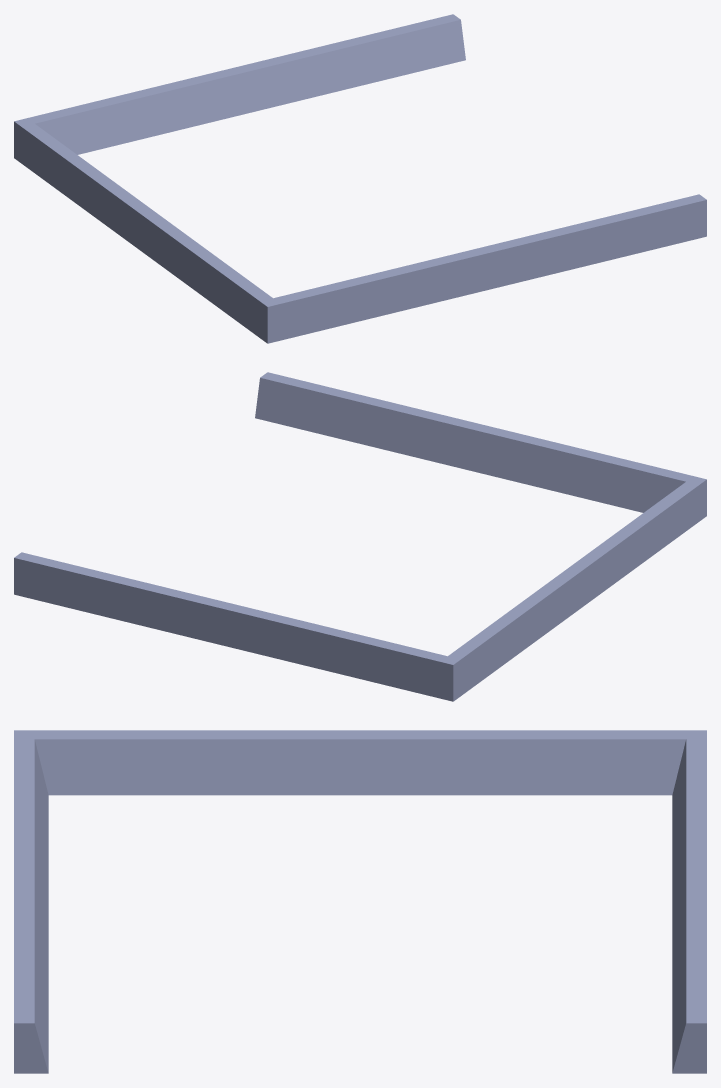
File: road-end-barrier.glb
3 renders of one model, top to bottom at view 1: azimuth 30°, elevation 25°; view 2: azimuth 150°, elevation 25°; view 3: azimuth 270°, elevation 25°, orthographic. The views are drawn at different scales.
Parts seen in each view (by area): view 1: road-end-barrier; view 2: road-end-barrier; view 3: road-end-barrier.
Part boxes in pixels (box(x1,y1,x2,y2)): road-end-barrier: box(14, 14, 706, 343); road-end-barrier: box(14, 372, 706, 701); road-end-barrier: box(14, 730, 706, 1073).
Bounding box in the file's own units: 1 × 0.08 × 1.
Materials: 1 (1 with a texture image).
